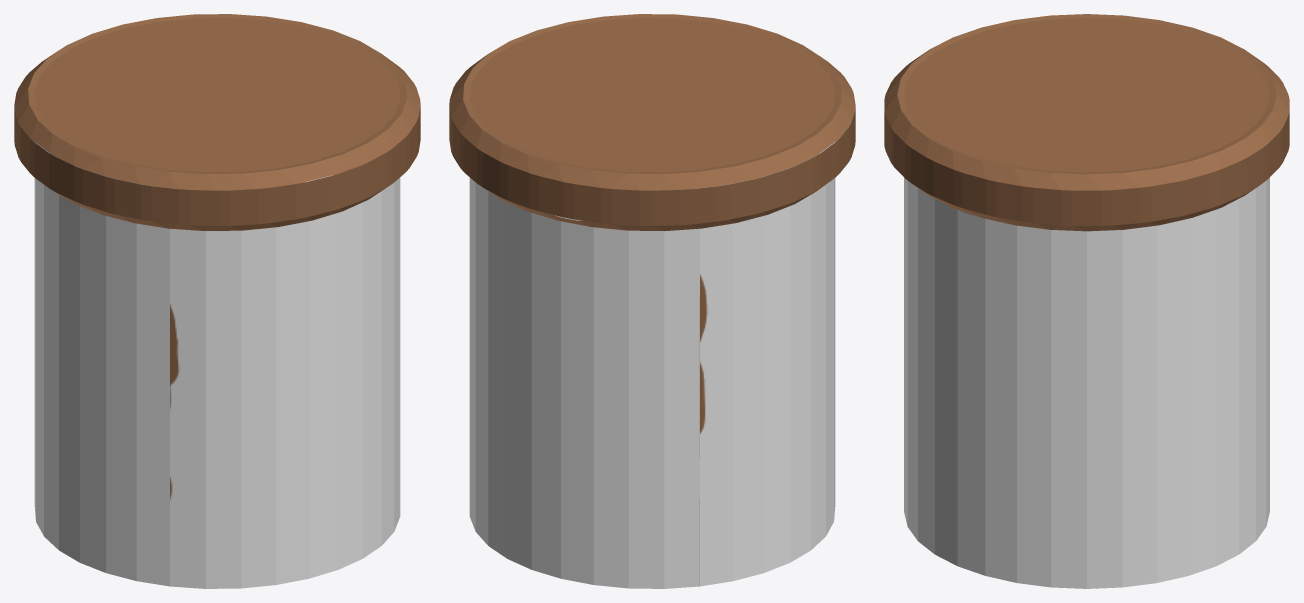
Rendered from cukier.glb.
3 views of the same model, side by side, from view 1: azimuth 30°, elevation 25°; view 2: azimuth 150°, elevation 25°; view 3: azimuth 270°, elevation 25° (orthographic).
Visible parts, largest first — view 1: Cube.006; view 2: Cube.006; view 3: Cube.006.
Part boxes in pixels (x1,y1,x2,y2): Cube.006: [14, 14, 420, 588]; Cube.006: [449, 14, 855, 588]; Cube.006: [884, 14, 1289, 588].
Size of the model in its own units: 0.3562 by 0.4051 by 0.3562.
Materials: 1 (1 with a texture image).
